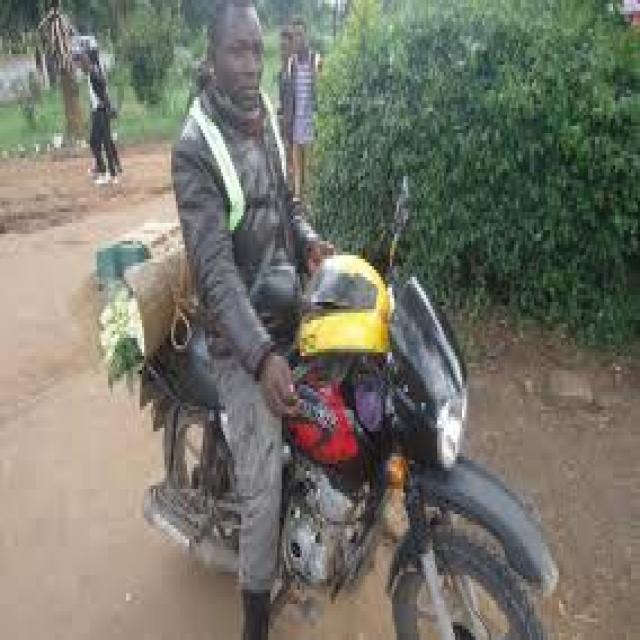bodaboda: (78, 168, 618, 640)
